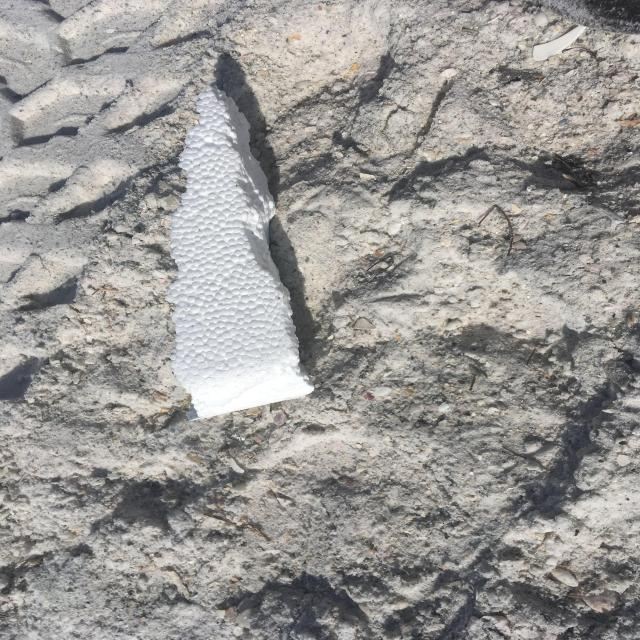litter: (293, 119, 640, 239)
